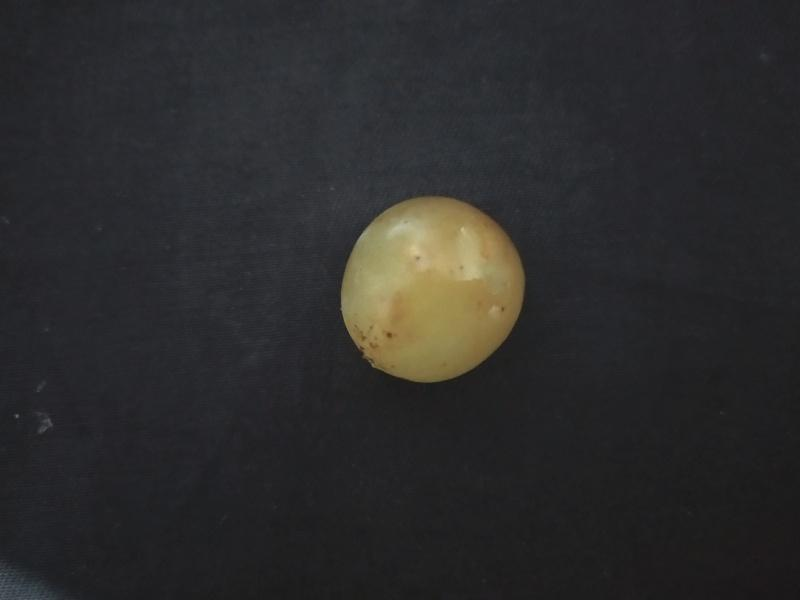Grape Rotten: (340, 195, 527, 383)
